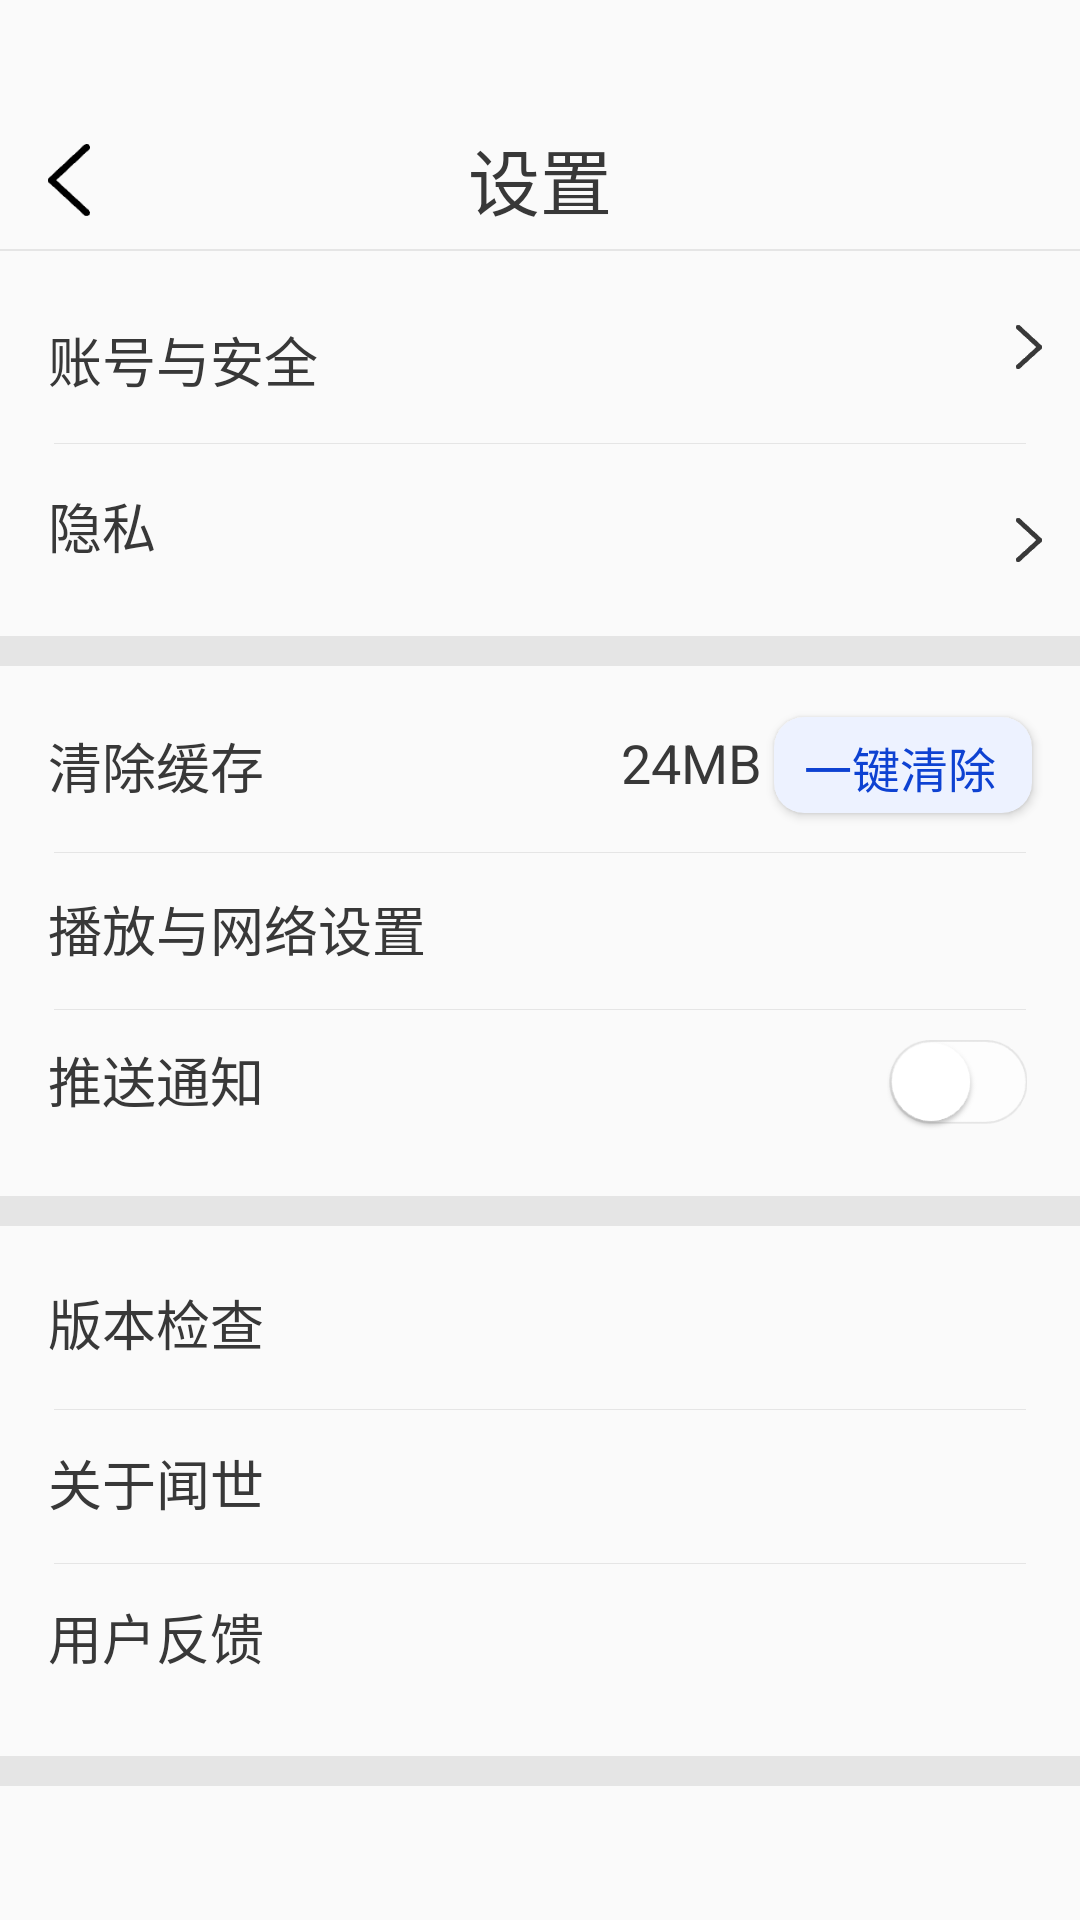

Screen size 1080px x 1920px. Icon name, then its box in pixels as (x1, y1, x2, y2):
arrow right: (1016, 325, 1042, 369), (1016, 518, 1042, 562)
back: (48, 144, 90, 216)
